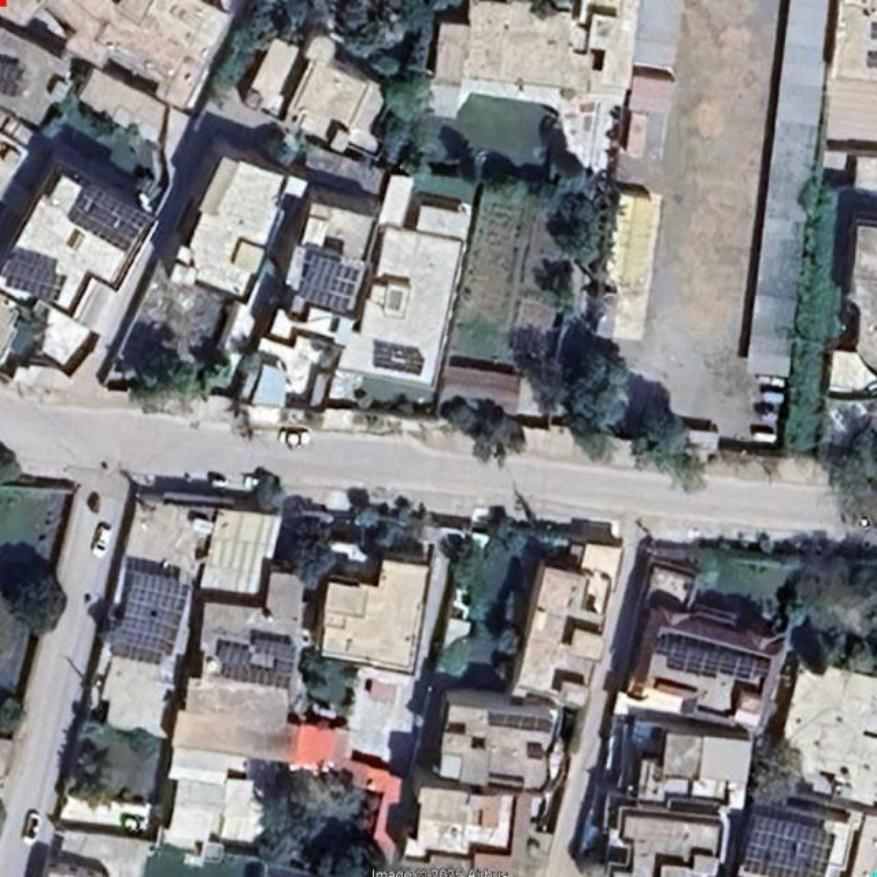Solarpanel: (112, 570, 193, 665), (67, 183, 154, 254), (742, 814, 835, 876), (666, 637, 772, 686), (301, 252, 369, 317), (215, 640, 296, 690), (5, 248, 53, 297)
